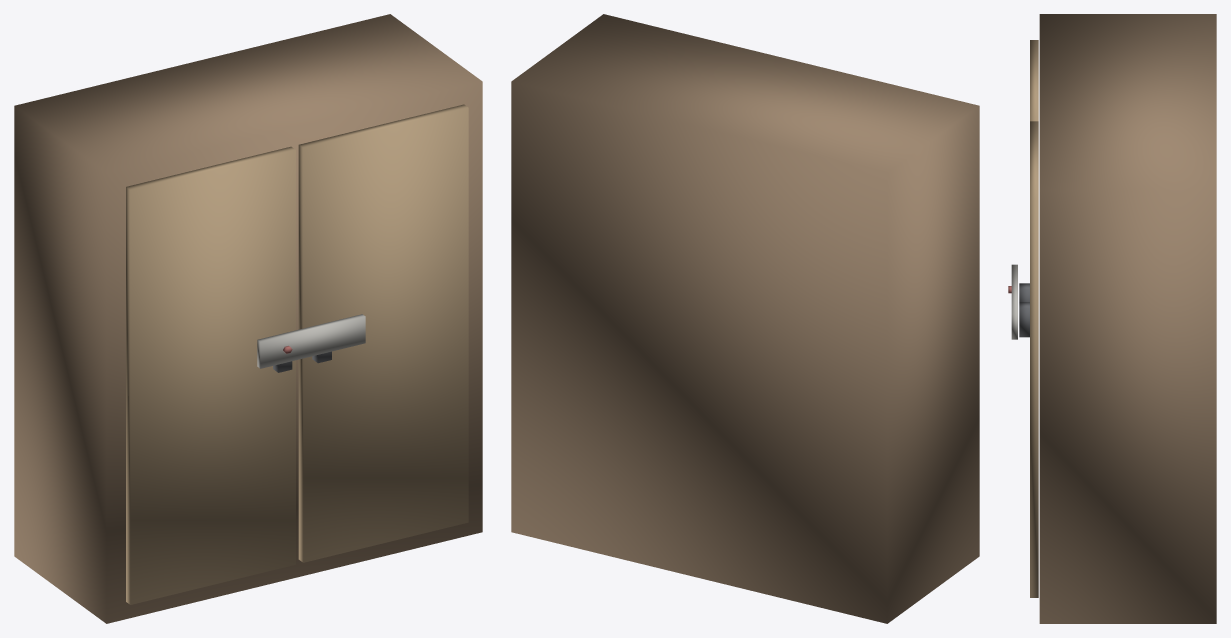
Rendered from mechanical_control_cabinet__wide.glb.
The picture shows the model from 3 angles, left to right: view 1: azimuth 30°, elevation 25°; view 2: azimuth 150°, elevation 25°; view 3: azimuth 270°, elevation 25°; orthographic projection. The views are drawn at different scales.
Visible parts, largest first — view 1: world; view 2: world; view 3: world.
Boxes of the visible parts, x1,y1,x2,y2 form: world: (14,14,482,623); world: (511,14,979,623); world: (1008,14,1216,623).
Bounding box in the file's own units: 1.18 × 1.35 × 0.5885.
